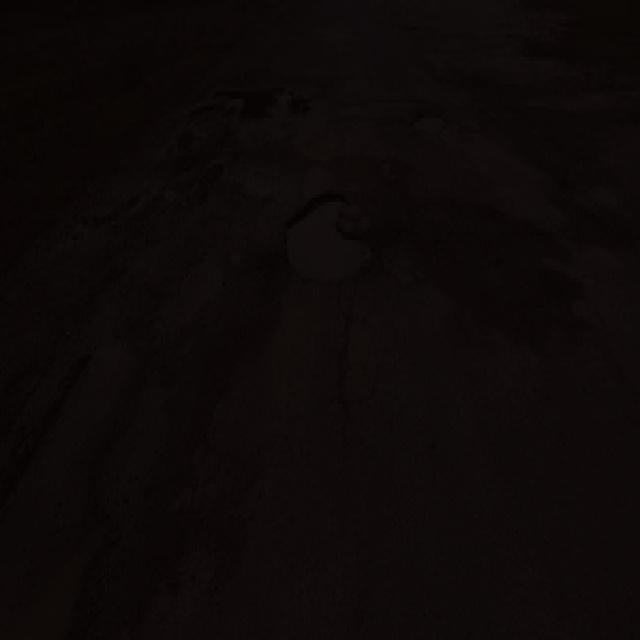Pothole: (0, 354, 194, 639), (271, 186, 377, 285), (409, 100, 456, 146)
